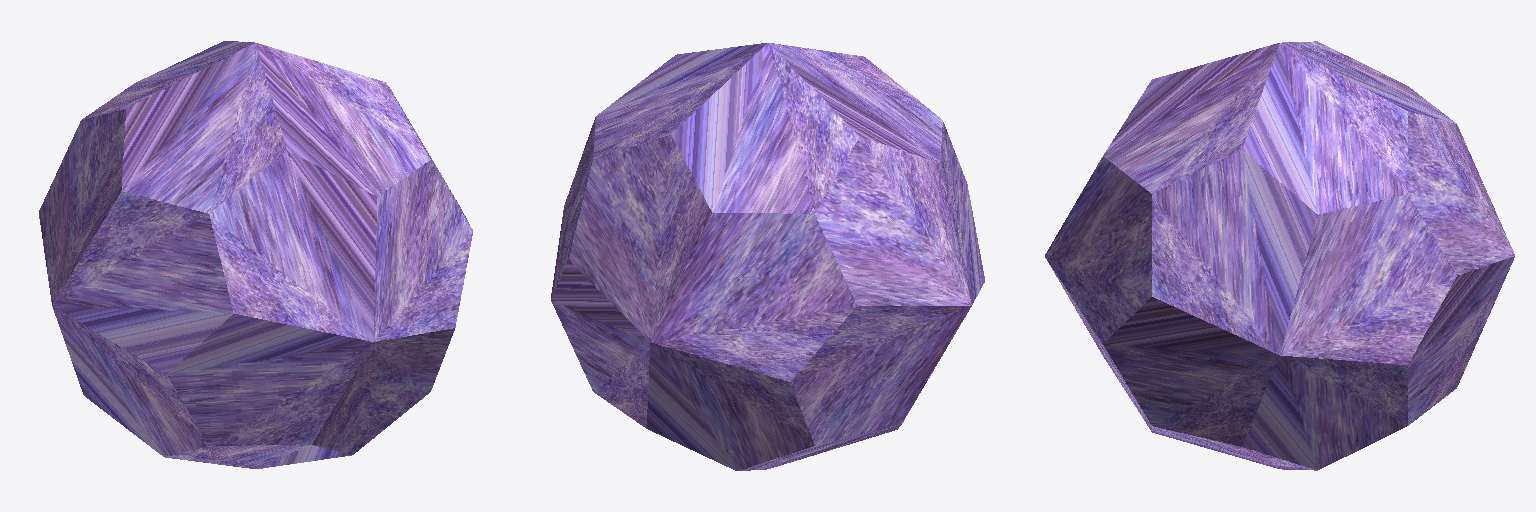
3 renders of one model, left to right at view 1: azimuth 30°, elevation 25°; view 2: azimuth 150°, elevation 25°; view 3: azimuth 270°, elevation 25°, orthographic.
Bounding box in the file's own units: 2.72 × 2.72 × 2.72.
1 materials, 1 textured.